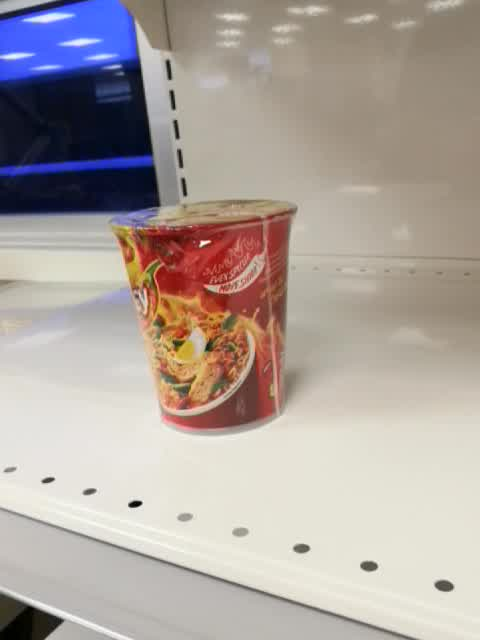maggi: (105, 198, 300, 437)
